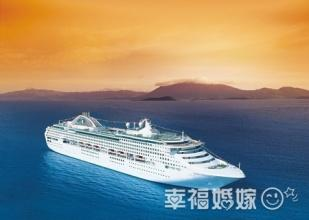youlun: (43, 110, 240, 189)
